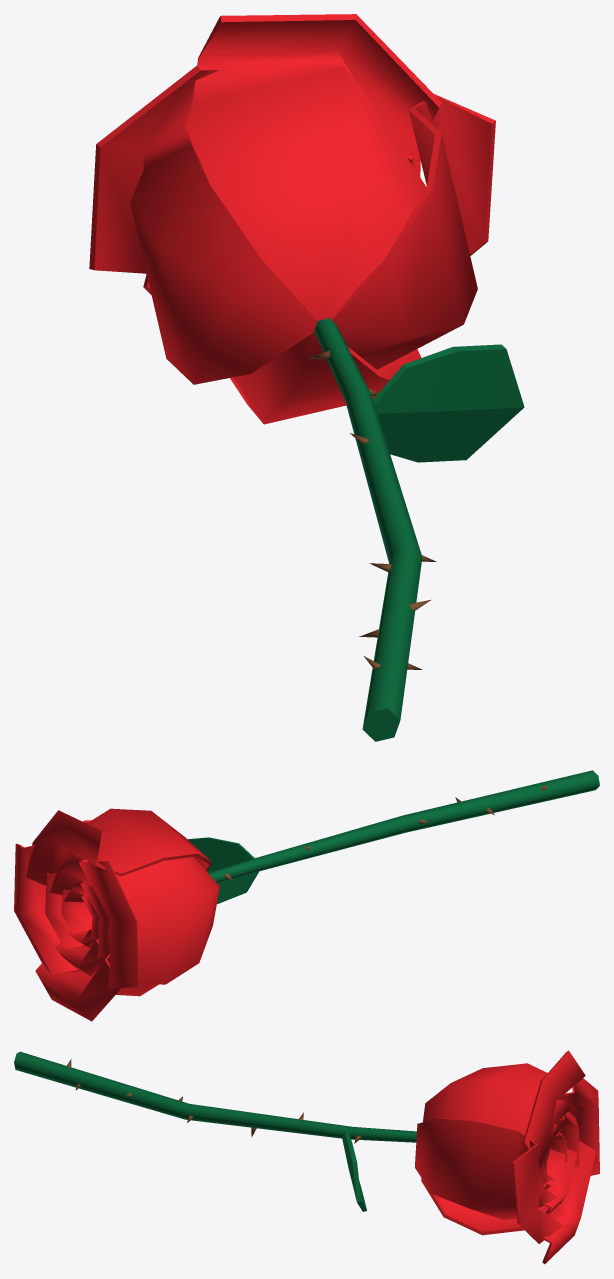
File: MM_Rose.fbx
3 renders of one model, top to bottom at view 1: azimuth 30°, elevation 25°; view 2: azimuth 150°, elevation 25°; view 3: azimuth 270°, elevation 25°, orthographic. The views are drawn at different scales.
Parts seen in each view (by area): view 1: MM_Rose; view 2: MM_Rose; view 3: MM_Rose.
Part boxes in pixels (<box>): MM_Rose: <box>89,14,524,741</box>; MM_Rose: <box>14,770,599,1021</box>; MM_Rose: <box>14,1050,599,1264</box>.
Bounding box in the file's own units: 78.7 × 44.47 × 128.
